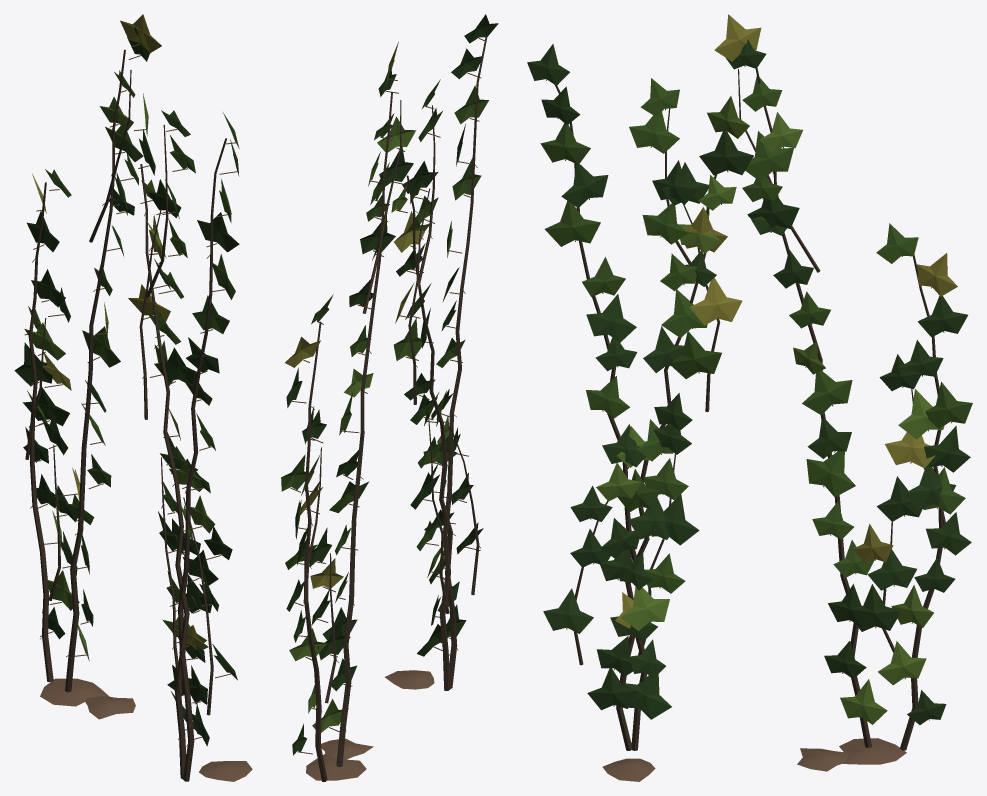
The model's file is ivy_wall.glb.
The picture shows the model from 3 angles, left to right: view 1: azimuth 30°, elevation 25°; view 2: azimuth 150°, elevation 25°; view 3: azimuth 270°, elevation 25°; orthographic projection. The views are drawn at different scales.
Visible parts, largest first — view 1: teil0, teil3, teil6, teil5, teil7, teil4, teil2; view 2: teil0, teil3, teil6, teil5, teil7, teil4, teil2; view 3: teil3, teil6, teil5, teil0, teil4, teil7.
Boxes of the visible parts, bbox=[...] form: teil0: bbox=[25, 49, 226, 781]; teil3: bbox=[14, 27, 239, 746]; teil6: bbox=[27, 70, 235, 602]; teil5: bbox=[24, 93, 215, 661]; teil7: bbox=[40, 678, 252, 781]; teil4: bbox=[32, 14, 208, 649]; teil2: bbox=[24, 43, 237, 739]; teil0: bbox=[303, 36, 487, 781]; teil3: bbox=[286, 14, 498, 755]; teil6: bbox=[281, 79, 488, 603]; teil5: bbox=[289, 116, 449, 732]; teil7: bbox=[306, 670, 434, 780]; teil4: bbox=[285, 41, 444, 588]; teil2: bbox=[290, 38, 484, 754]; teil3: bbox=[527, 39, 971, 724]; teil6: bbox=[540, 76, 972, 593]; teil5: bbox=[596, 96, 944, 724]; teil0: bbox=[555, 68, 945, 750]; teil4: bbox=[615, 14, 957, 628]; teil7: bbox=[602, 738, 906, 781].
Size of the model in its own units: 0.3185 by 2.5 by 1.37.
